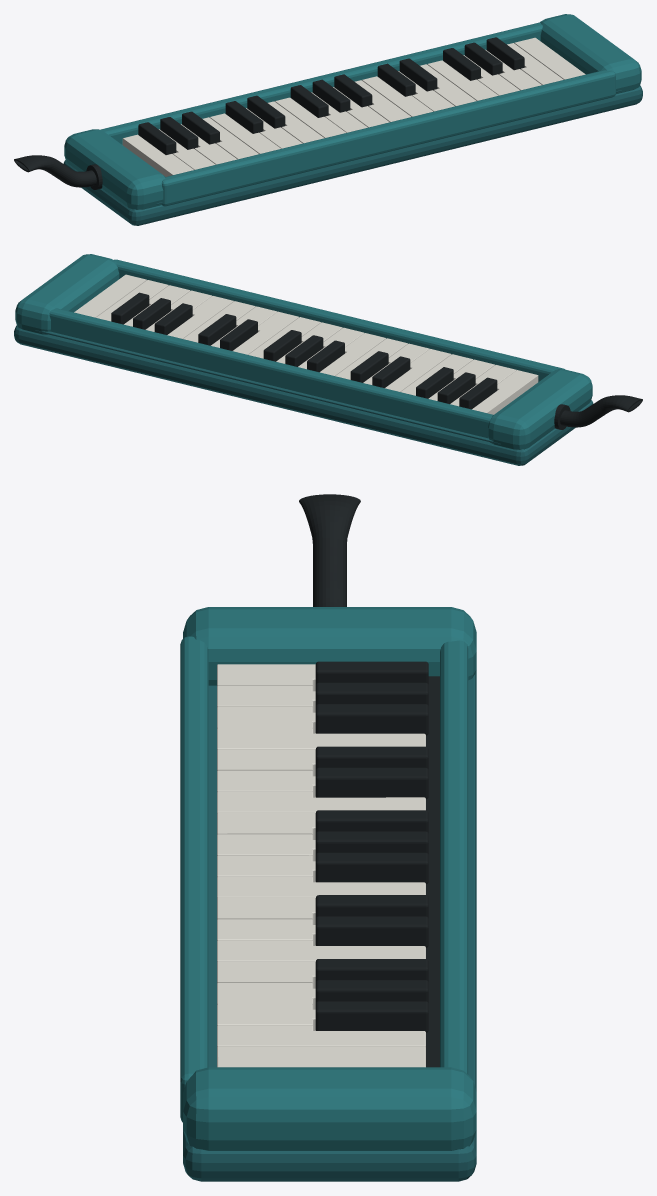
Rendered from A-NEW-20261026-MELODICA-001_LOD1_R1.glb.
3 views of the same model, one above another, from view 1: azimuth 30°, elevation 25°; view 2: azimuth 150°, elevation 25°; view 3: azimuth 270°, elevation 25° (orthographic). The views are drawn at different scales.
Visible parts, largest first — view 1: upper long rim, closed lower shell, upper long rim.001, thick rounded end shell, thick rounded end shell.001, hollow curved mouthpiece, white key midi 53, white key midi 84, white key midi 65, white key midi 60, white key midi 77, white key midi 72 (+26 smaller); view 2: upper long rim.001, closed lower shell, upper long rim, thick rounded end shell, thick rounded end shell.001, shell seam lip.001, hollow curved mouthpiece, white key midi 53, white key midi 84, white key midi 77, white key midi 60, white key midi 72 (+27 smaller); view 3: thick rounded end shell.001, thick rounded end shell, closed lower shell, upper long rim, upper long rim.001, keybed support plate, white key midi 84, hollow curved mouthpiece, white key midi 83, white key midi 59, white key midi 64, white key midi 71 (+28 smaller).
Boxes of the visible parts, x1,y1,x2,y2 form: upper long rim: (161, 70, 615, 206); closed lower shell: (63, 85, 642, 225); upper long rim.001: (100, 22, 542, 144); thick rounded end shell: (64, 129, 165, 209); thick rounded end shell.001: (540, 14, 641, 93); hollow curved mouthpiece: (14, 155, 96, 187); white key midi 53: (122, 134, 193, 176); white key midi 84: (514, 37, 585, 79); white key midi 65: (275, 97, 346, 137); white key midi 60: (209, 113, 280, 153); white key midi 77: (427, 60, 498, 100); white key midi 72: (362, 76, 432, 116); upper long rim.001: (49, 308, 493, 438); closed lower shell: (14, 325, 593, 465); upper long rim: (114, 259, 564, 381); thick rounded end shell: (488, 369, 592, 449); thick rounded end shell.001: (15, 254, 119, 334); shell seam lip.001: (35, 330, 500, 444); hollow curved mouthpiece: (560, 395, 642, 427); white key midi 53: (472, 370, 538, 414); white key midi 84: (74, 274, 146, 317); white key midi 77: (167, 296, 233, 338); white key midi 60: (385, 349, 451, 391); white key midi 72: (233, 311, 298, 354); thick rounded end shell.001: (183, 1067, 476, 1150); thick rounded end shell: (183, 607, 476, 685); closed lower shell: (183, 670, 476, 1181); upper long rim: (180, 636, 208, 1122); upper long rim.001: (440, 640, 468, 1074); keybed support plate: (426, 676, 439, 1067); white key midi 84: (217, 1046, 425, 1067); hollow curved mouthpiece: (299, 494, 360, 606); white key midi 83: (217, 1025, 425, 1047); white key midi 59: (217, 728, 425, 749); white key midi 64: (217, 791, 425, 813); white key midi 71: (217, 876, 425, 898).
Size of the model in its own units: 0.4811 by 0.054 by 0.105.
